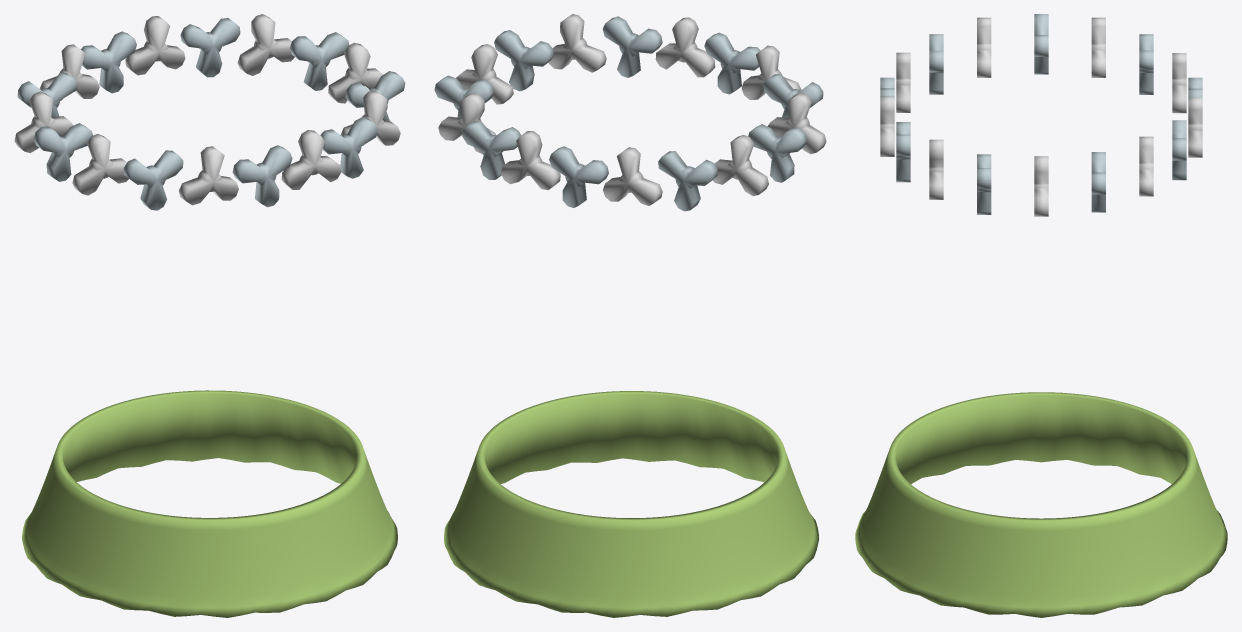
The model's file is island_furuhonya.glb.
The picture shows the model from 3 angles, left to right: view 1: azimuth 30°, elevation 25°; view 2: azimuth 150°, elevation 25°; view 3: azimuth 270°, elevation 25°; orthographic projection.
Parts seen in each view (by area): view 1: island_furuhonya; view 2: island_furuhonya; view 3: island_furuhonya.
Part boxes in pixels (x1=…): island_furuhonya: x1=14, y1=14, x2=405, y2=617; island_furuhonya: x1=434, y1=14, x2=826, y2=617; island_furuhonya: x1=855, y1=14, x2=1227, y2=617.
Bounding box in the file's own units: 0.6546 × 0.8245 × 0.6143.
